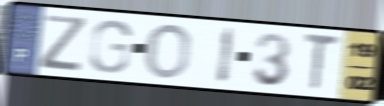3: (252, 30, 294, 89)
G: (87, 18, 134, 75)
I: (214, 25, 238, 87)
O: (143, 22, 194, 81)
T: (302, 31, 342, 94)
Z: (37, 12, 89, 74)
